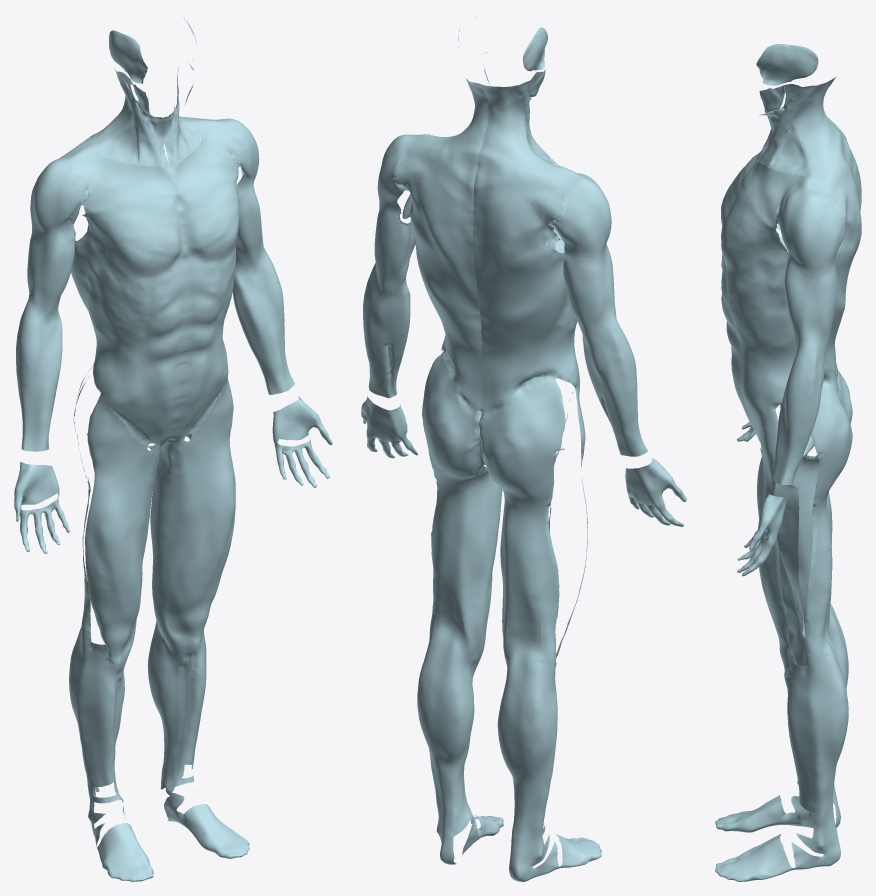
File: fascia.glb
3 renders of one model, left to right at view 1: azimuth 30°, elevation 25°; view 2: azimuth 150°, elevation 25°; view 3: azimuth 270°, elevation 25°, orthographic. The views are drawn at different scales.
Parts seen in each view (by area): view 1: Investing abdominal fascia.r, Fascia lata.l, Fascia lata.r, Crural fascia.l, Crural fascia.r, Pectoral fascia.r, Investing abdominal fascia.l, Pectoral fascia.l, Antebrachial fascia.r, Antebrachial fascia.l, Superficial investing cervical fascia.r, Deltoid fascia.r (+7 smaller); view 2: Investing abdominal fascia.r, Fascia lata.r, Fascia lata.l, Crural fascia.r, Investing abdominal fascia.l, Crural fascia.l, Superficial investing cervical fascia.r, Antebrachial fascia.r, Antebrachial fascia.l, Deltoid fascia.r, Superficial investing cervical fascia.l, Brachial fascia.r (+7 smaller); view 3: Investing abdominal fascia.l, Crural fascia.l, Fascia lata.l, Superficial investing cervical fascia.l, Deltoid fascia.l, Pectoral fascia.l, Antebrachial fascia.l, Fascia lata.r, Brachial fascia.l, Crural fascia.r, Medial femoral intermuscular septum.l, Superficial layer of temporal fascia.l (+7 smaller).
Boxes of the visible parts, x1,y1,x2,y2 form: Investing abdominal fascia.r: (71, 223, 187, 444); Fascia lata.l: (147, 378, 235, 627); Fascia lata.r: (73, 367, 167, 648); Crural fascia.l: (147, 611, 249, 858); Crural fascia.r: (69, 627, 153, 881); Pectoral fascia.r: (79, 162, 184, 279); Investing abdominal fascia.l: (169, 248, 236, 439); Pectoral fascia.l: (169, 141, 240, 259); Antebrachial fascia.r: (16, 300, 62, 451); Antebrachial fascia.l: (232, 247, 294, 394); Superficial investing cervical fascia.r: (58, 68, 169, 167); Deltoid fascia.r: (30, 152, 114, 241); Investing abdominal fascia.r: (473, 193, 579, 414); Fascia lata.r: (479, 377, 587, 667); Fascia lata.l: (422, 351, 502, 647); Crural fascia.r: (497, 655, 601, 881); Investing abdominal fascia.l: (405, 163, 482, 412); Crural fascia.l: (417, 639, 503, 864); Superficial investing cervical fascia.r: (474, 72, 576, 203); Antebrachial fascia.r: (581, 317, 647, 456); Antebrachial fascia.l: (363, 263, 410, 398); Deltoid fascia.r: (527, 159, 611, 260); Superficial investing cervical fascia.l: (403, 78, 488, 194); Brachial fascia.r: (561, 238, 616, 335); Investing abdominal fascia.l: (721, 184, 861, 439); Crural fascia.l: (715, 648, 848, 881); Fascia lata.l: (757, 380, 852, 666); Superficial investing cervical fascia.l: (759, 76, 855, 195); Deltoid fascia.l: (778, 173, 850, 279); Pectoral fascia.l: (721, 161, 783, 276); Antebrachial fascia.l: (771, 339, 827, 484); Fascia lata.r: (757, 368, 852, 626); Brachial fascia.l: (784, 251, 837, 348); Crural fascia.r: (715, 610, 848, 832); Medial femoral intermuscular septum.l: (775, 483, 804, 623); Superficial layer of temporal fascia.l: (756, 44, 818, 85).
Size of the model in its own units: 0.6708 by 1.66 by 0.2685.
